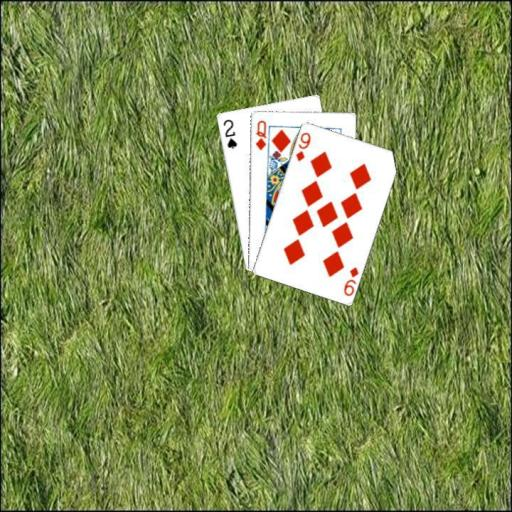2S: (220, 116, 238, 150)
9D: (292, 129, 312, 162), (341, 263, 360, 297)
QD: (252, 118, 267, 152)
